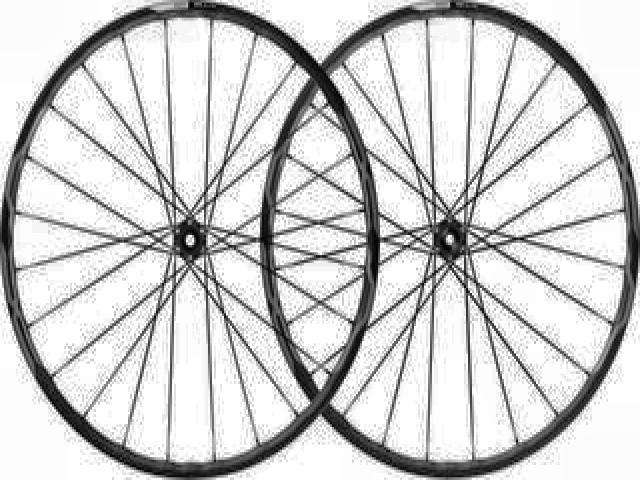wheel: (254, 0, 637, 480), (0, 0, 382, 480)
